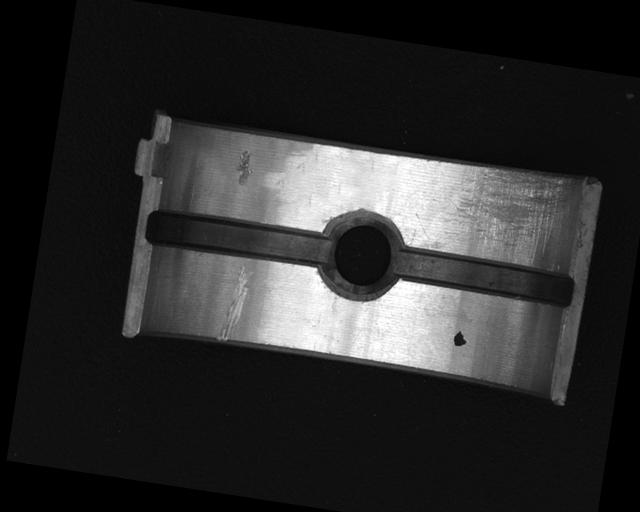blot: (451, 329, 468, 350)
bruise: (232, 148, 257, 188)
gap: (143, 204, 334, 274), (388, 244, 577, 308)
hole: (315, 206, 409, 305)
nick: (216, 265, 252, 343)
scratch: (442, 159, 580, 269)
